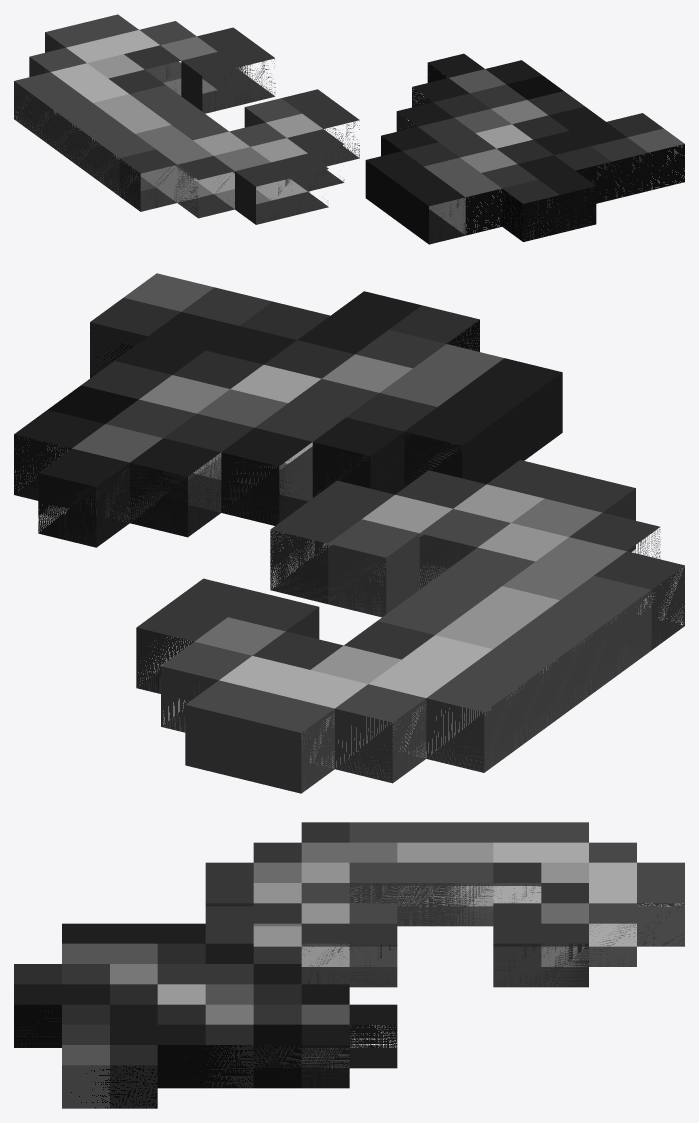
Rendered from flint_and_steel.fbx.
3 renders of one model, top to bottom at view 1: azimuth 30°, elevation 25°; view 2: azimuth 150°, elevation 25°; view 3: azimuth 270°, elevation 25°, orthographic. The views are drawn at different scales.
Parts seen in each view (by area): view 1: 平面.002; view 2: 平面.002; view 3: 平面.002.
Part boxes in pixels (x1,y1,x2,y2): 平面.002: (14, 14, 684, 244); 平面.002: (14, 273, 684, 793); 平面.002: (14, 822, 684, 1108).
Size of the model in its own units: 18.75 by 1.56 by 21.88.
1 material, 1 textured.
